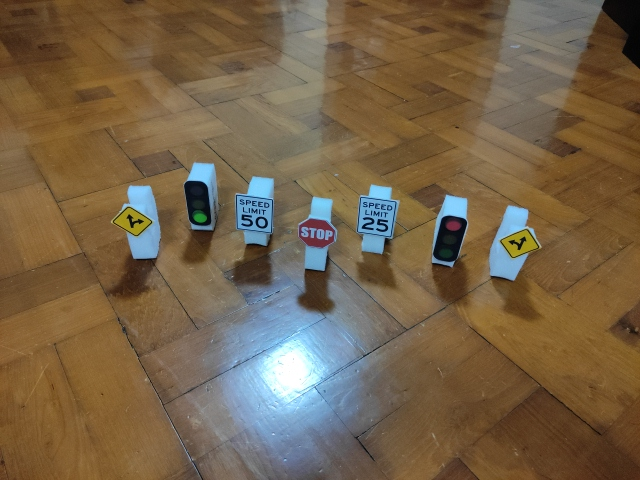Green Traffic Light: (183, 179, 212, 227)
Red Traffic Light: (433, 216, 467, 263)
Speed Limit 25: (356, 195, 400, 238)
Speed Limit 50: (234, 193, 275, 235)
Stop Sign: (297, 217, 337, 249)
Straight Or Left Sign: (499, 226, 542, 259)
Straight Or Right Sign: (110, 205, 156, 237)
